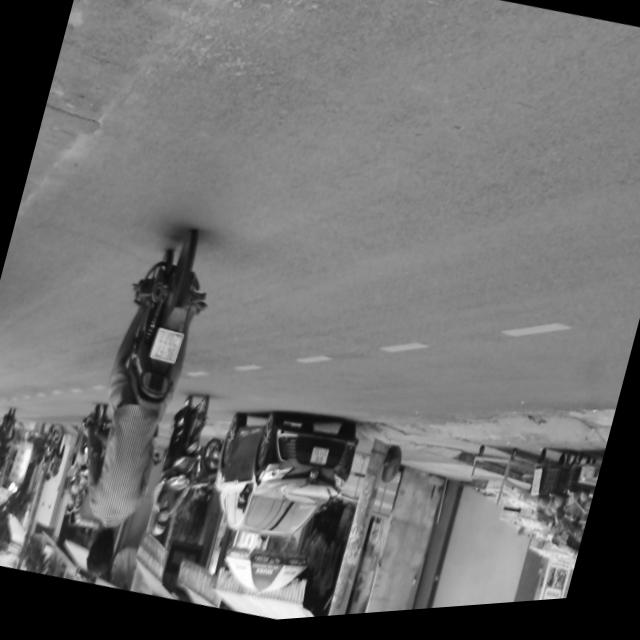licenseplate: (53, 223, 226, 596)
motorcyclist: (80, 523, 124, 585)
nohelmet: (149, 329, 184, 369)
